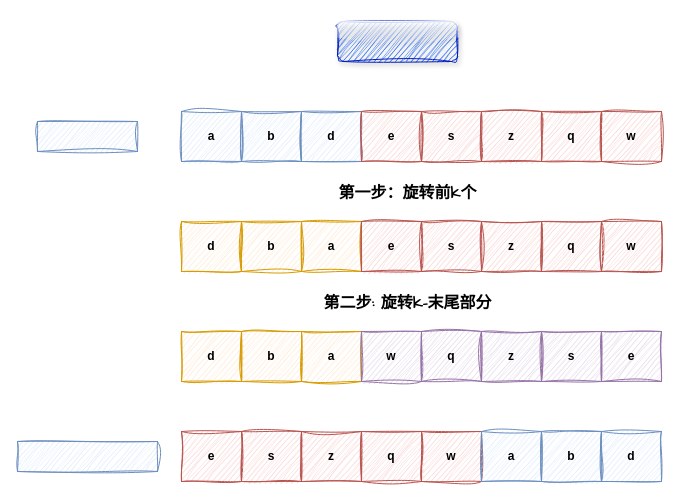
The diagram is 679 pixels wide and 499 high, and some of its shapes have lost their labels. Each missing label, with the centre of its shape:
原始字符串: the point at 87,136
左旋后的字符串: the point at 87,456
左旋字符串: the point at 398,42
